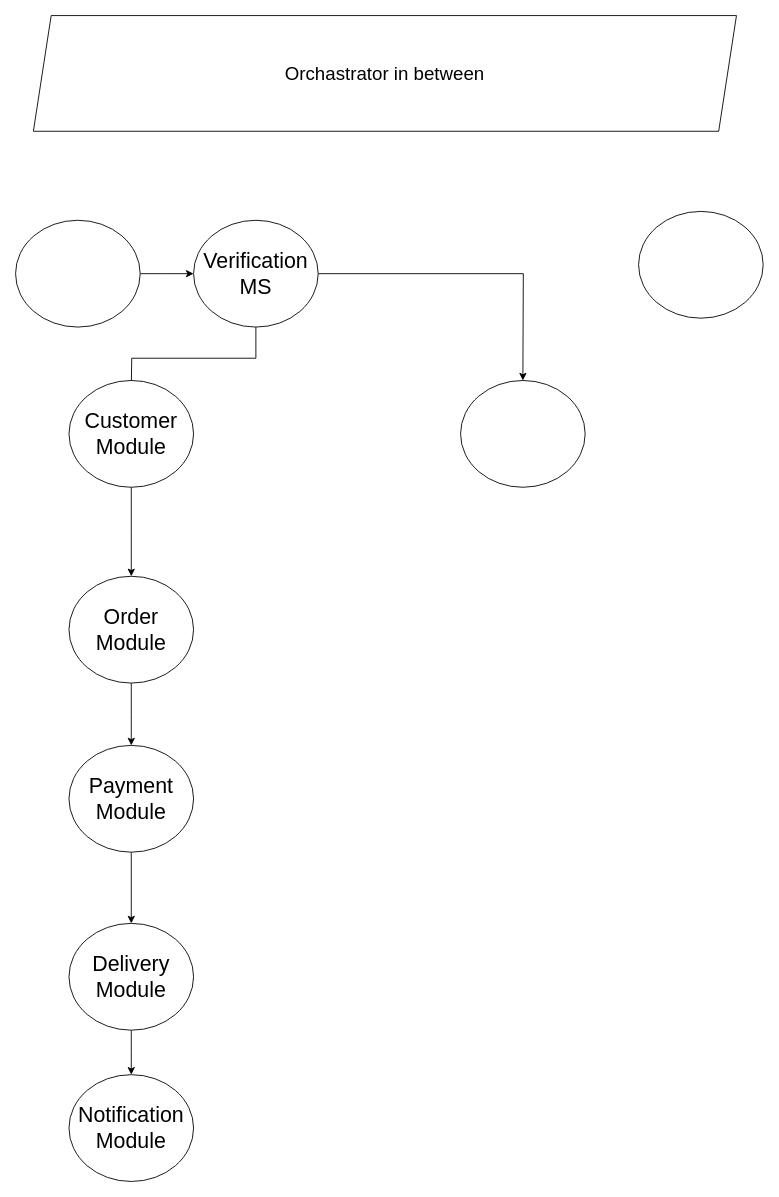
This 779x1197 diagram has some shape labels left out. The box of each missing label's shape, as (x1, y1, x2, y2) in pixels:
Login Module: (15, 219, 140, 327)
Registration Module: (638, 210, 763, 318)
Restaurant Module: (460, 380, 585, 487)
